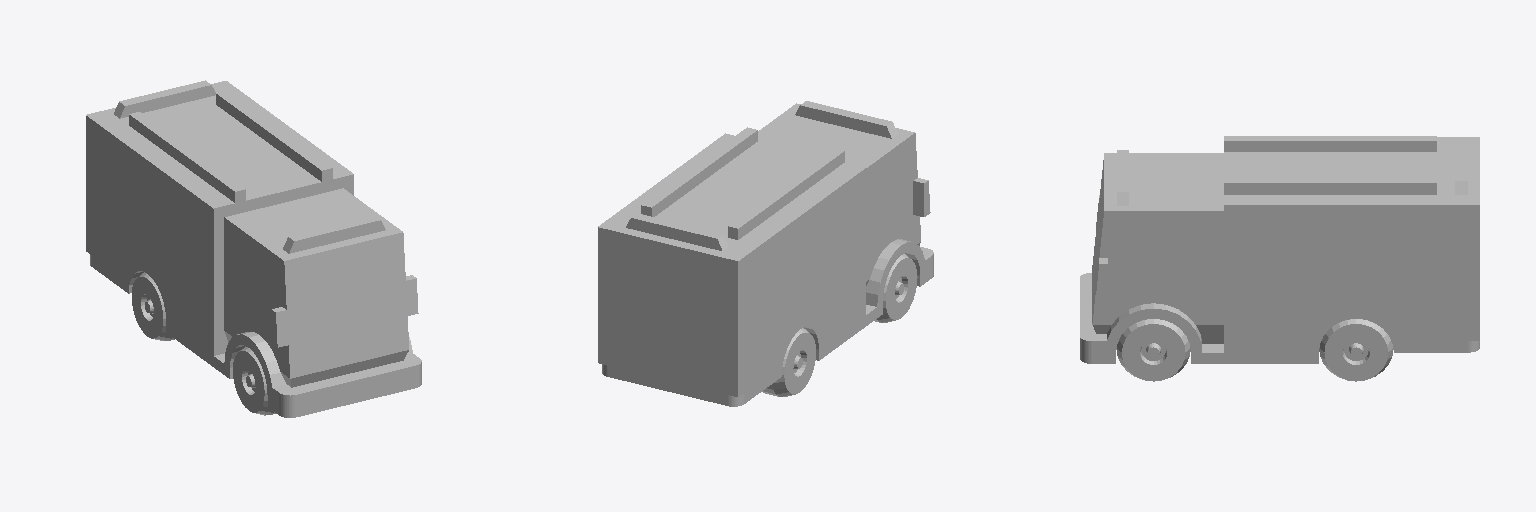
Rendered from firetruck.obj.
The picture shows the model from 3 angles: view 1: azimuth 30°, elevation 25°; view 2: azimuth 150°, elevation 25°; view 3: azimuth 270°, elevation 25°; orthographic projection.
Visible parts, largest first — view 1: body, wheel_frontRight, wheel_backRight; view 2: body, wheel_backRight, wheel_frontRight; view 3: body, wheel_backLeft, wheel_frontLeft.
Boxes of the visible parts, x1,y1,x2,y2 form: body: [86, 80, 421, 417]; wheel_frontRight: [233, 346, 276, 415]; wheel_backRight: [132, 272, 174, 340]; body: [598, 101, 933, 406]; wheel_backRight: [762, 328, 815, 396]; wheel_frontRight: [874, 254, 917, 322]; body: [1080, 136, 1479, 363]; wheel_backLeft: [1319, 319, 1392, 381]; wheel_frontLeft: [1117, 319, 1190, 381].
Bounding box in the file's own units: 0.975 × 1.27 × 2.4.